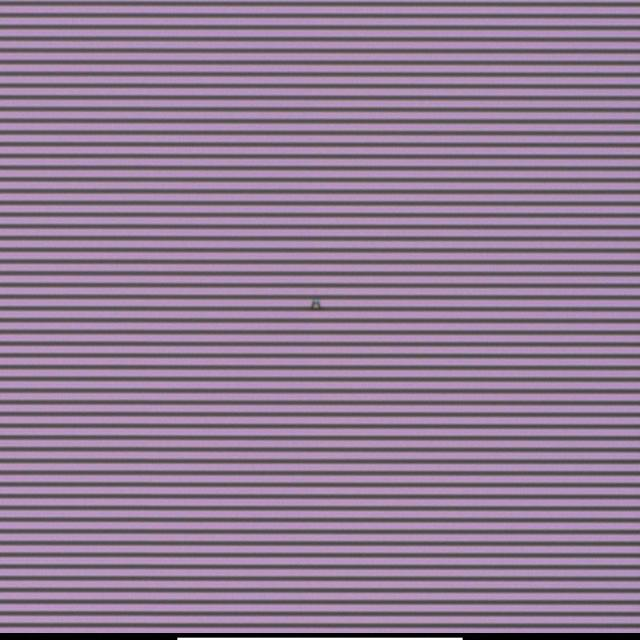03_intrusion: (306, 293, 329, 315)
